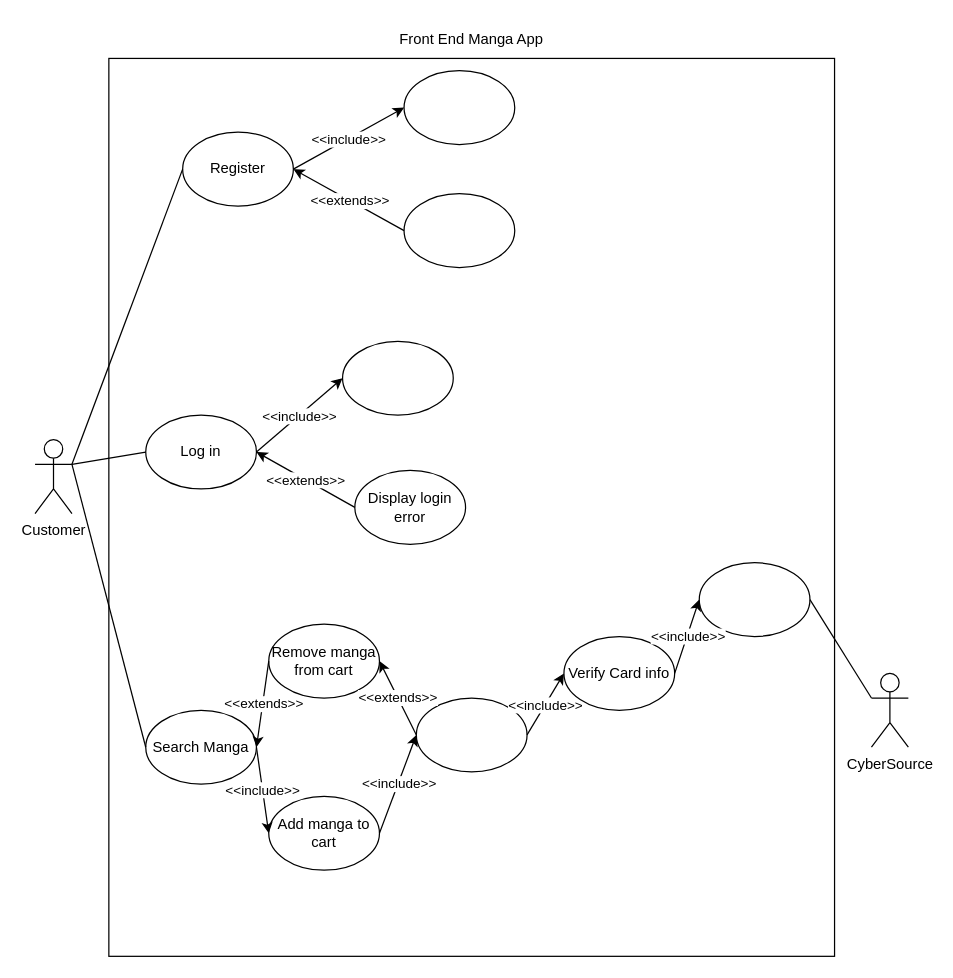
Some shapes in this 953 by 978 pixel diagram are drawn without their labels. Each missing label, with the centre of its shape:
Check out: pixel 471 734
Display email exists error: pixel 459 230
Process Payment: pixel 754 599
Verify credentials: pixel 397 377
Verify email: pixel 459 107
